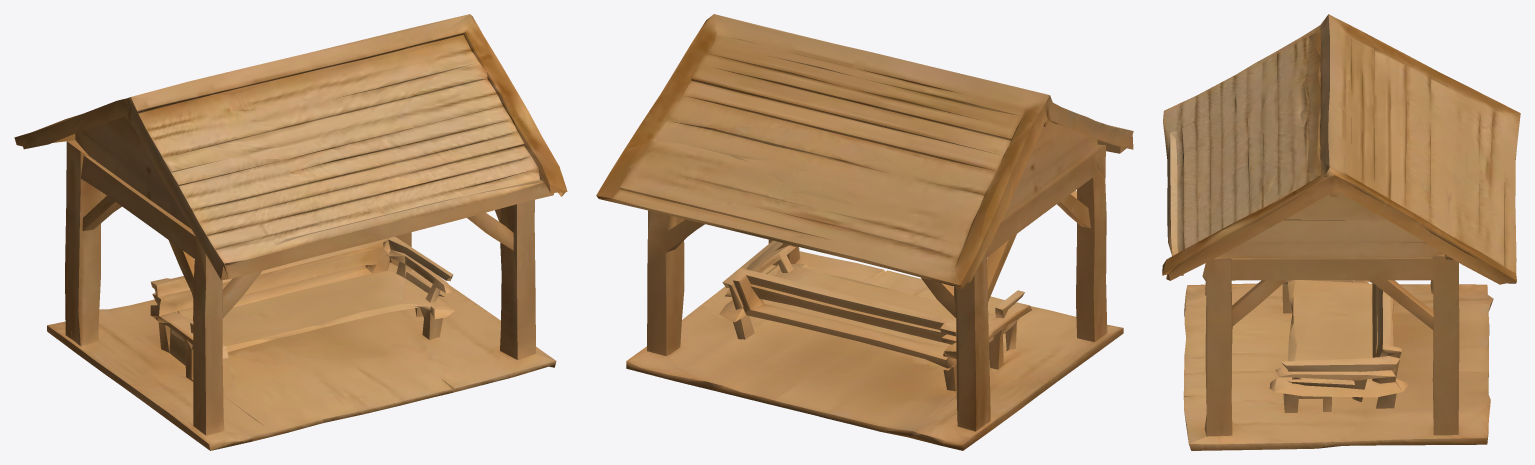
Rendered from m2TrainingPavilionBg.glb.
3 renders of one model, left to right at view 1: azimuth 30°, elevation 25°; view 2: azimuth 150°, elevation 25°; view 3: azimuth 270°, elevation 25°, orthographic. The views are drawn at different scales.
Visible parts, largest first — view 1: model; view 2: model; view 3: model.
Boxes of the visible parts, x1,y1,x2,y2 form: model: [14, 14, 567, 450]; model: [596, 14, 1133, 450]; model: [1162, 14, 1520, 450].
Bounding box in the file's own units: 1.89 × 1.47 × 1.71.
1 material, 1 textured.
